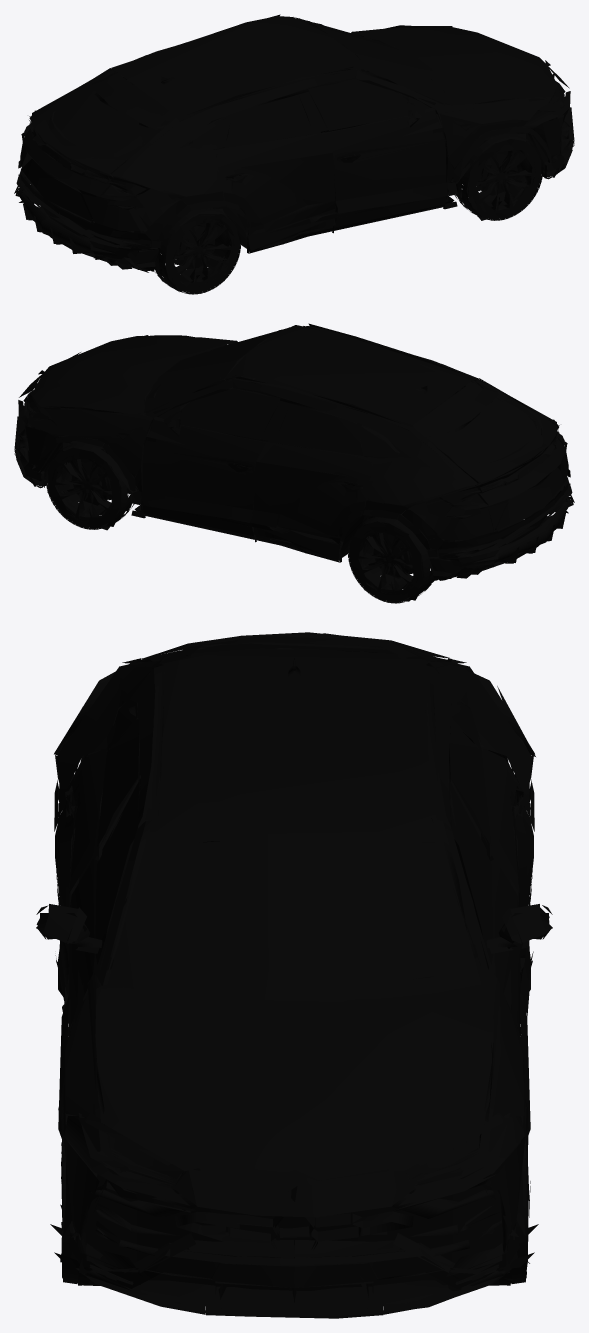
File: v_urus_lod1.glb
3 views of the same model, one above another, from view 1: azimuth 30°, elevation 25°; view 2: azimuth 150°, elevation 25°; view 3: azimuth 270°, elevation 25° (orthographic). The views are drawn at different scales.
Parts seen in each view (by area): view 1: v_urus_lod1; view 2: v_urus_lod1; view 3: v_urus_lod1.
Part boxes in pixels (bbox=[...]): v_urus_lod1: bbox=[14, 14, 574, 294]; v_urus_lod1: bbox=[14, 323, 574, 603]; v_urus_lod1: bbox=[36, 632, 552, 1318].
Size of the model in its own units: 5.11 by 1.65 by 2.24.
1 material, 1 textured.
